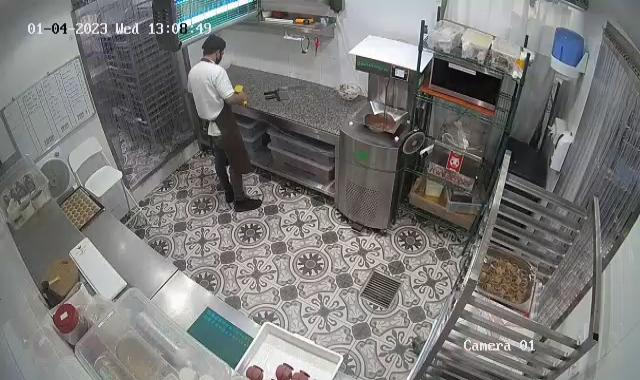no_hairnet: (199, 36, 225, 56)
